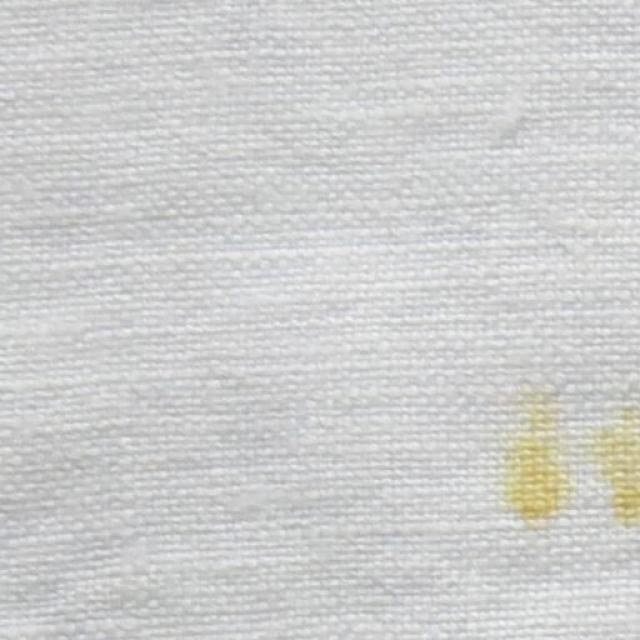Stain: (505, 388, 574, 521), (594, 410, 640, 528)
